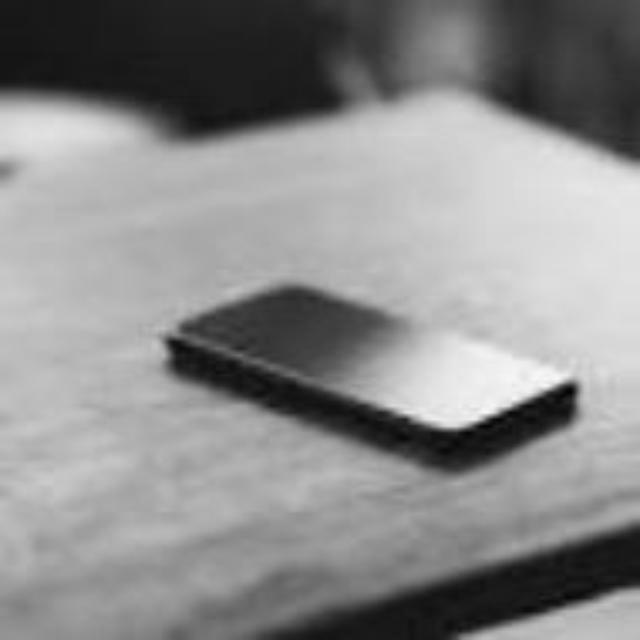fake: (169, 249, 595, 499)
